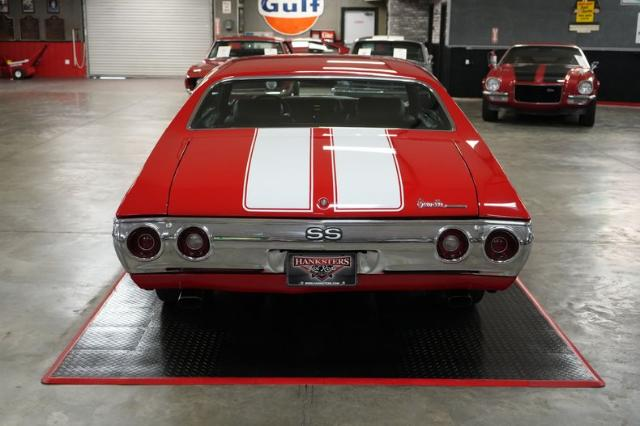chevelle-1972: (113, 54, 532, 305)
